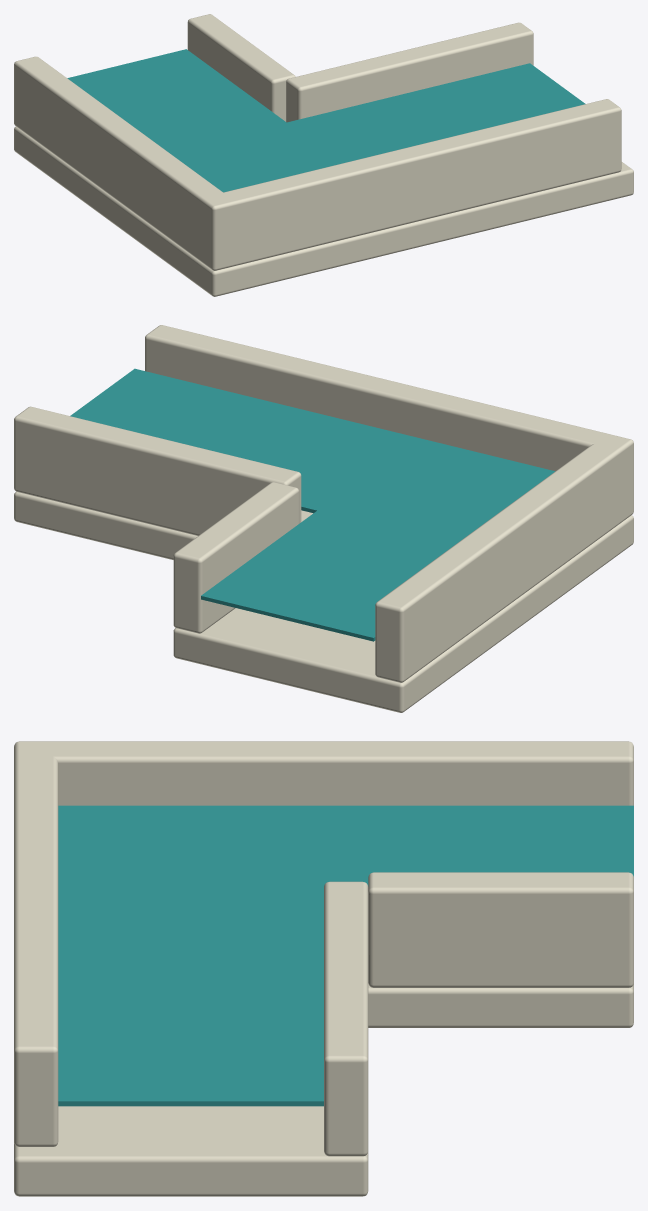
The model's file is water-clock-garden-and-hydraulic-puzzles-open-channel--eebf780d__31952.glb.
3 renders of one model, top to bottom at view 1: azimuth 30°, elevation 25°; view 2: azimuth 150°, elevation 25°; view 3: azimuth 270°, elevation 25°, orthographic. The views are drawn at different scales.
Parts seen in each view (by area): view 1: open-channel-elbow; view 2: open-channel-elbow; view 3: open-channel-elbow.
Part boxes in pixels (box(x1,y1,x2,y2)): open-channel-elbow: box(14, 14, 633, 296); open-channel-elbow: box(14, 325, 633, 712); open-channel-elbow: box(14, 741, 633, 1196).
Bounding box in the file's own units: 1.7 × 0.3499 × 1.4.
